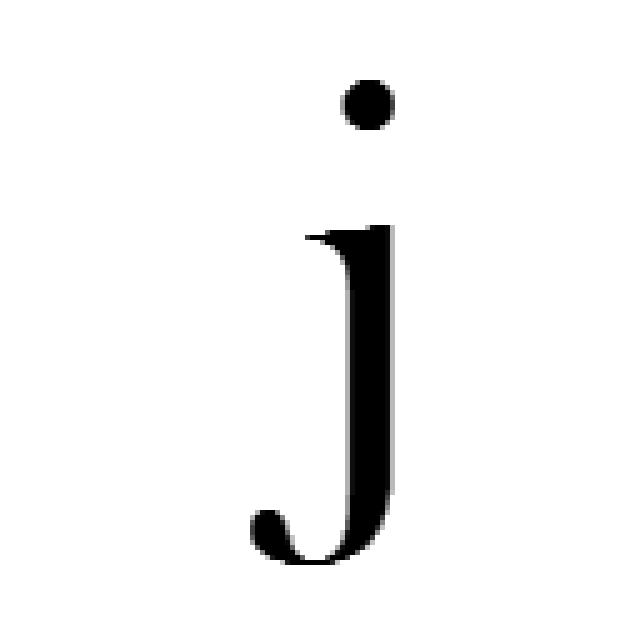J: (240, 67, 398, 570)
